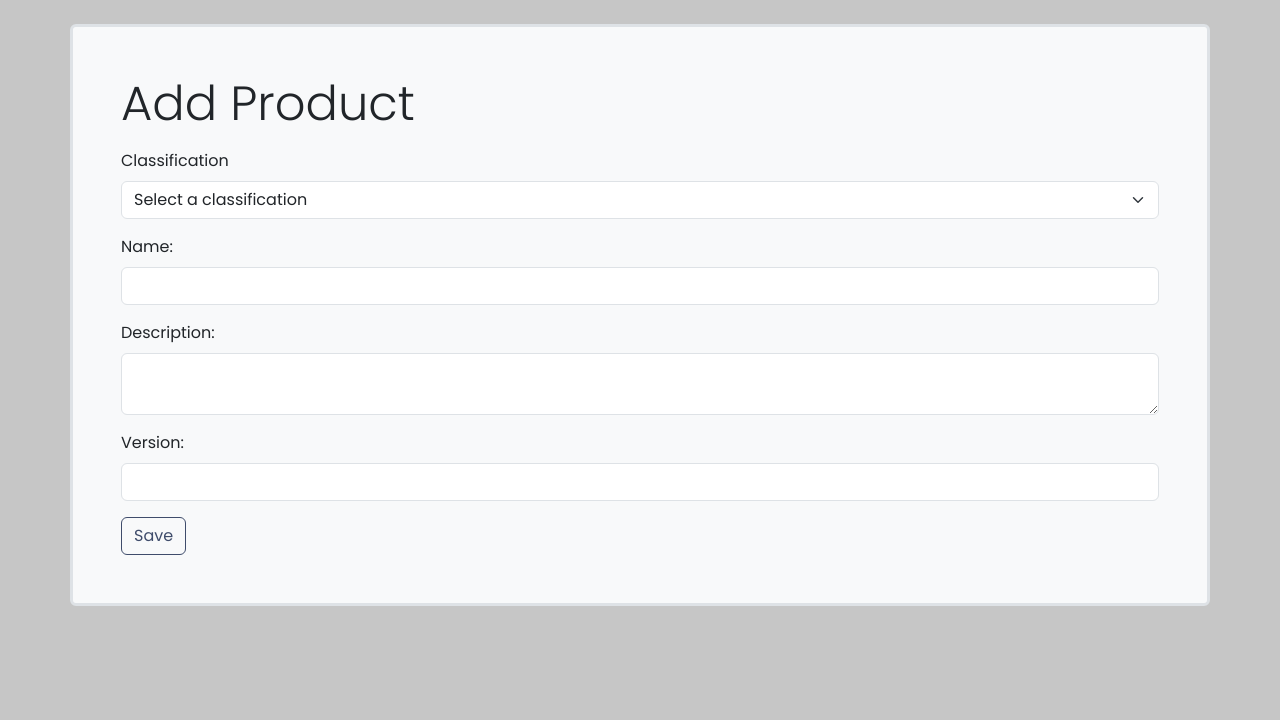
Test: AddEditProduct › shows error alert when create fails
In the field labelled "Name:": (640, 286) [121,267,1159,305], type "Bad"
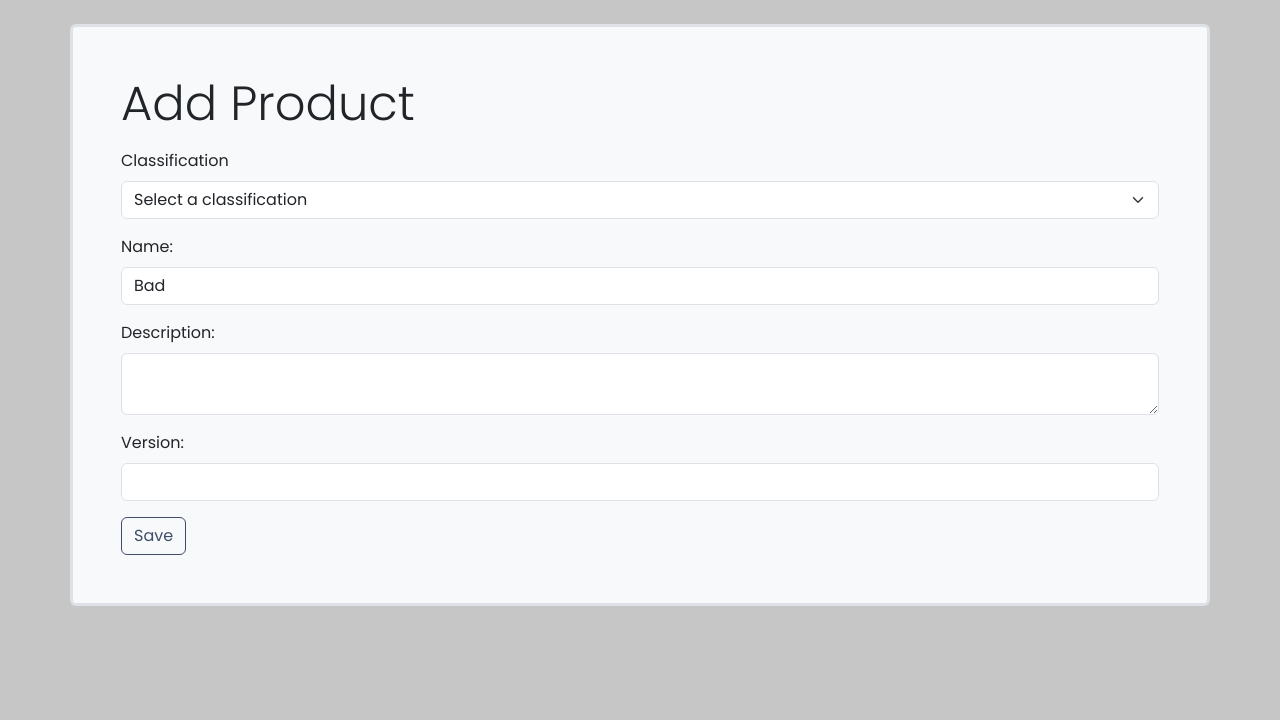
Click the button "Save": click(154, 536) [121,517,186,555]
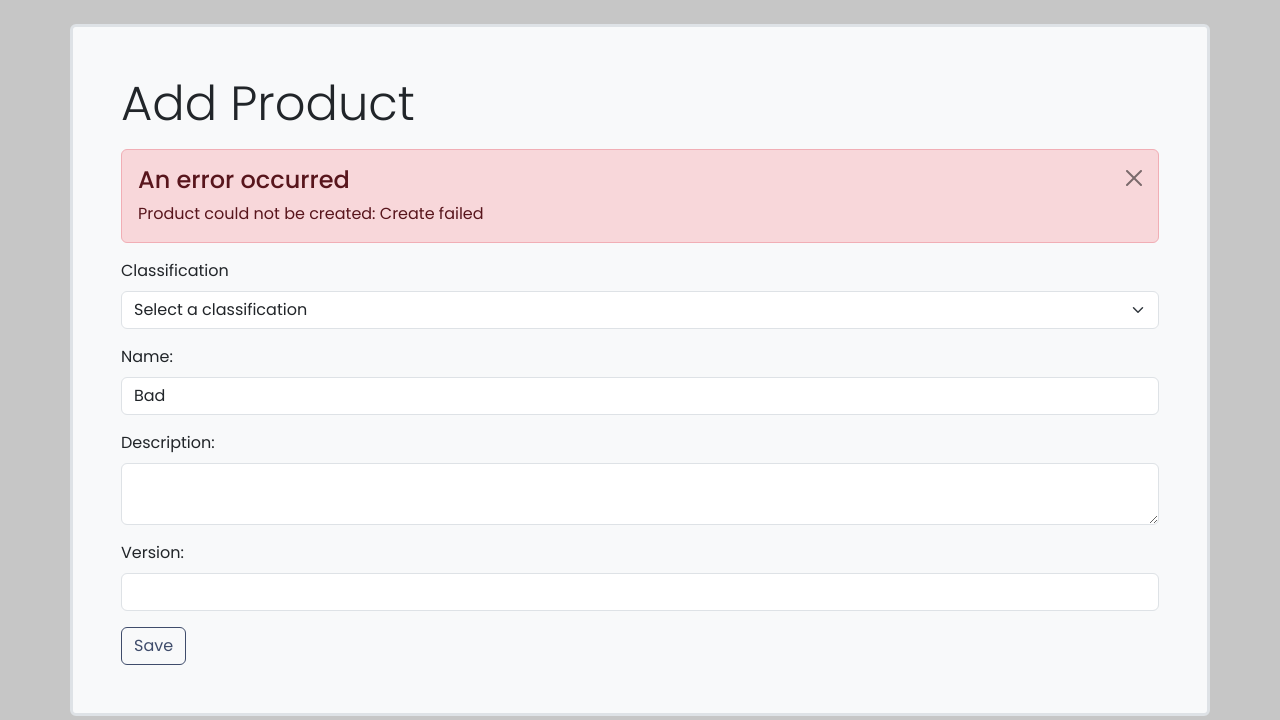
Expected: the text "An error occurred Product could not be created: Create failed" is shown, [121,149,1159,243]
